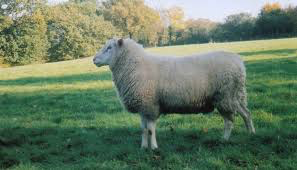koyun: (93, 36, 258, 147)
